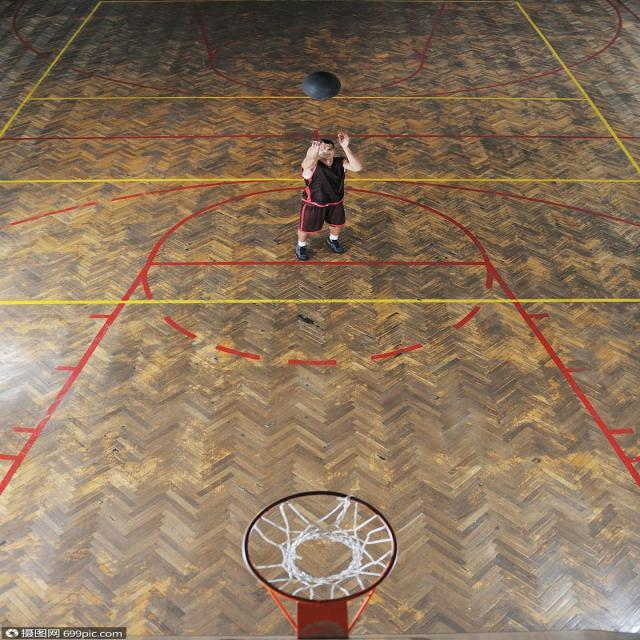rim: (299, 73, 339, 99)
